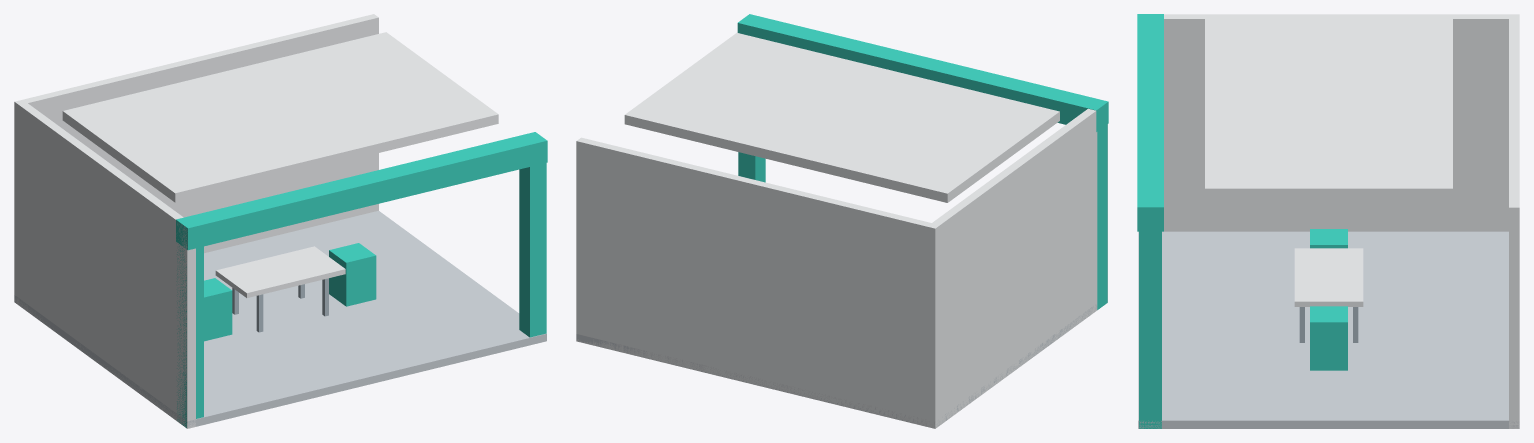
The picture shows the model from 3 angles, left to right: view 1: azimuth 30°, elevation 25°; view 2: azimuth 150°, elevation 25°; view 3: azimuth 270°, elevation 25°; orthographic projection. The views are drawn at different scales.
Visible parts, largest first — view 1: Exhibition Booth Concept; view 2: Exhibition Booth Concept; view 3: Exhibition Booth Concept.
Boxes of the visible parts, <box> form: Exhibition Booth Concept: <box>14,14,547,428</box>; Exhibition Booth Concept: <box>576,14,1108,428</box>; Exhibition Booth Concept: <box>1137,14,1519,428</box>.
Size of the model in its own units: 6 by 3.34 by 5.02.
